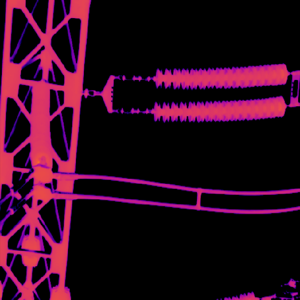insulator: (150, 93, 287, 123), (151, 60, 290, 87)
